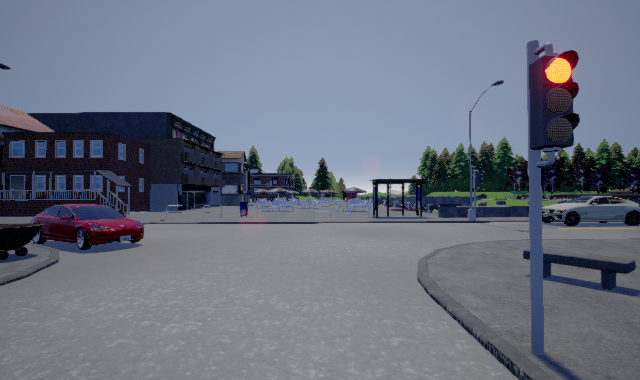traffic_light: (529, 42, 580, 168)
vehicle: (31, 204, 144, 250), (542, 196, 640, 226)
